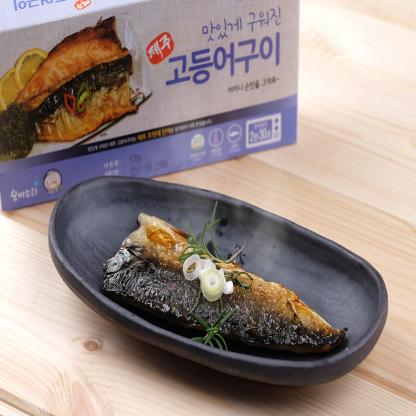Peixe: (110, 206, 353, 376)
